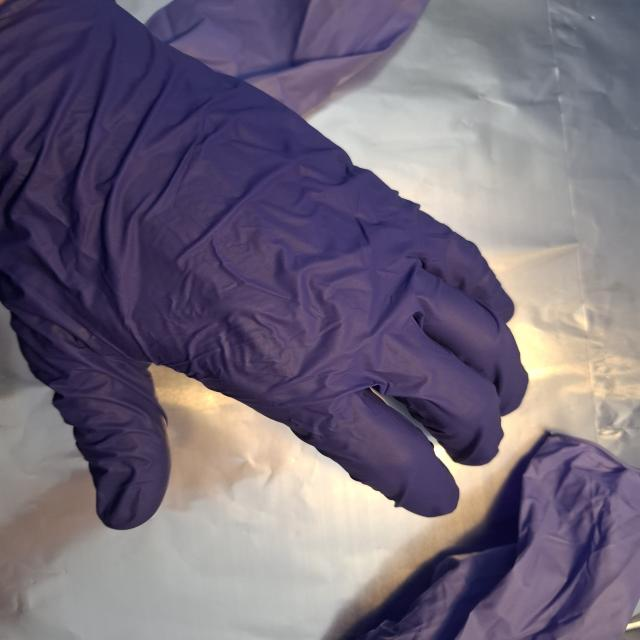glove_on: (0, 0, 532, 534)
